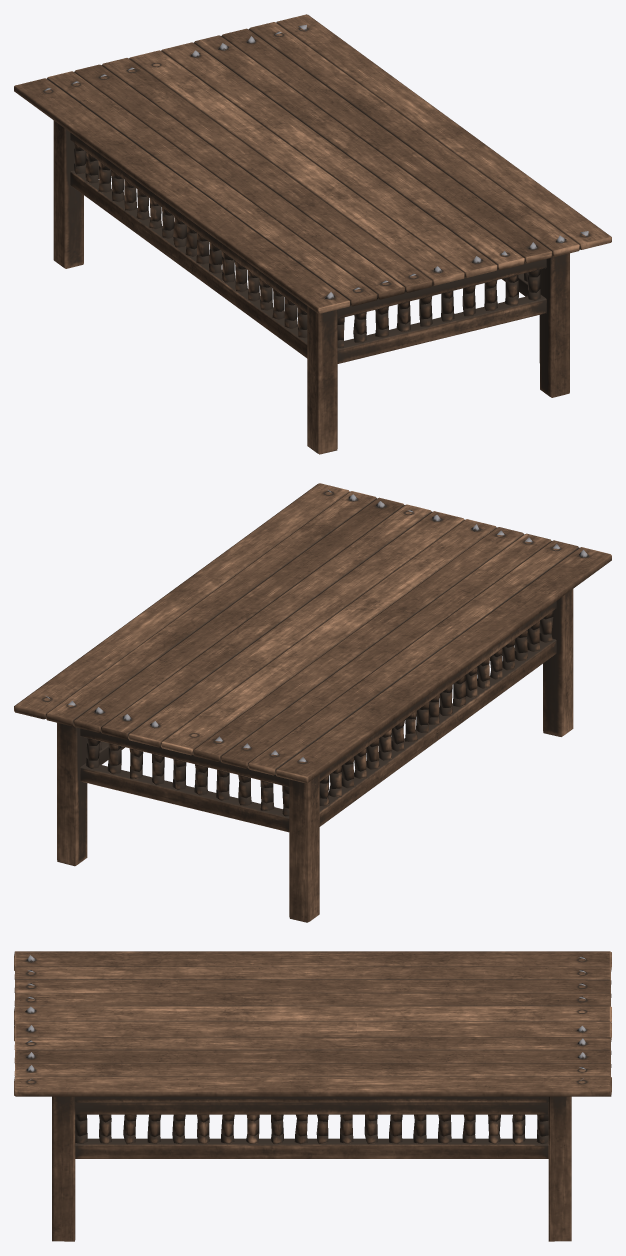
Rendered from SM_table_01.fbx.
The picture shows the model from 3 angles, top to bottom: view 1: azimuth 30°, elevation 25°; view 2: azimuth 150°, elevation 25°; view 3: azimuth 270°, elevation 25°; orthographic projection. The views are drawn at different scales.
Visible parts, largest first — view 1: SM_table_01_LOD0; view 2: SM_table_01_LOD0; view 3: SM_table_01_LOD0.
Part boxes in pixels (left/top/right/bottom): SM_table_01_LOD0: left=14, top=14, right=611, bottom=454; SM_table_01_LOD0: left=14, top=483, right=611, bottom=922; SM_table_01_LOD0: left=14, top=951, right=611, bottom=1241.
Size of the model in its own units: 129 by 231 by 71.39.
Materials: 1 (1 with a texture image).
